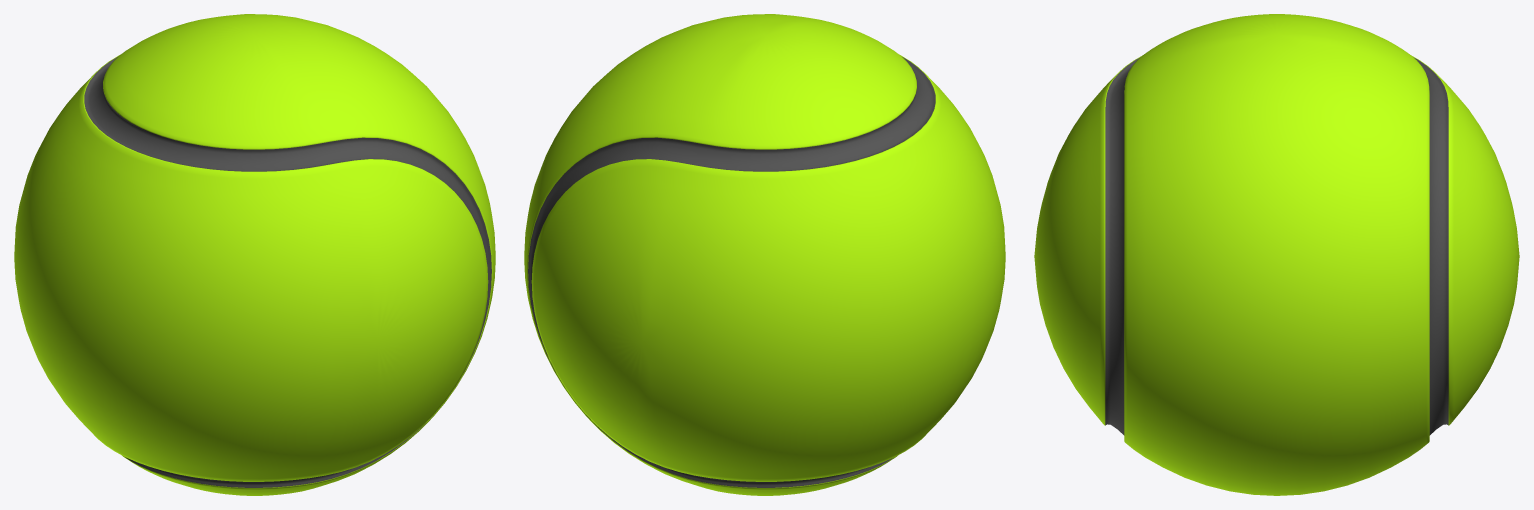
Rendered from tennis_ball.fbx.
The picture shows the model from 3 angles, left to right: view 1: azimuth 30°, elevation 25°; view 2: azimuth 150°, elevation 25°; view 3: azimuth 270°, elevation 25°; orthographic projection.
Visible parts, largest first — view 1: Sphere.001; view 2: Sphere.001; view 3: Sphere.001.
Boxes of the visible parts, <box> form: Sphere.001: <box>14,14,495,495</box>; Sphere.001: <box>524,14,1005,495</box>; Sphere.001: <box>1034,14,1519,495</box>.
Bounding box in the file's own units: 198 × 200 × 200.
